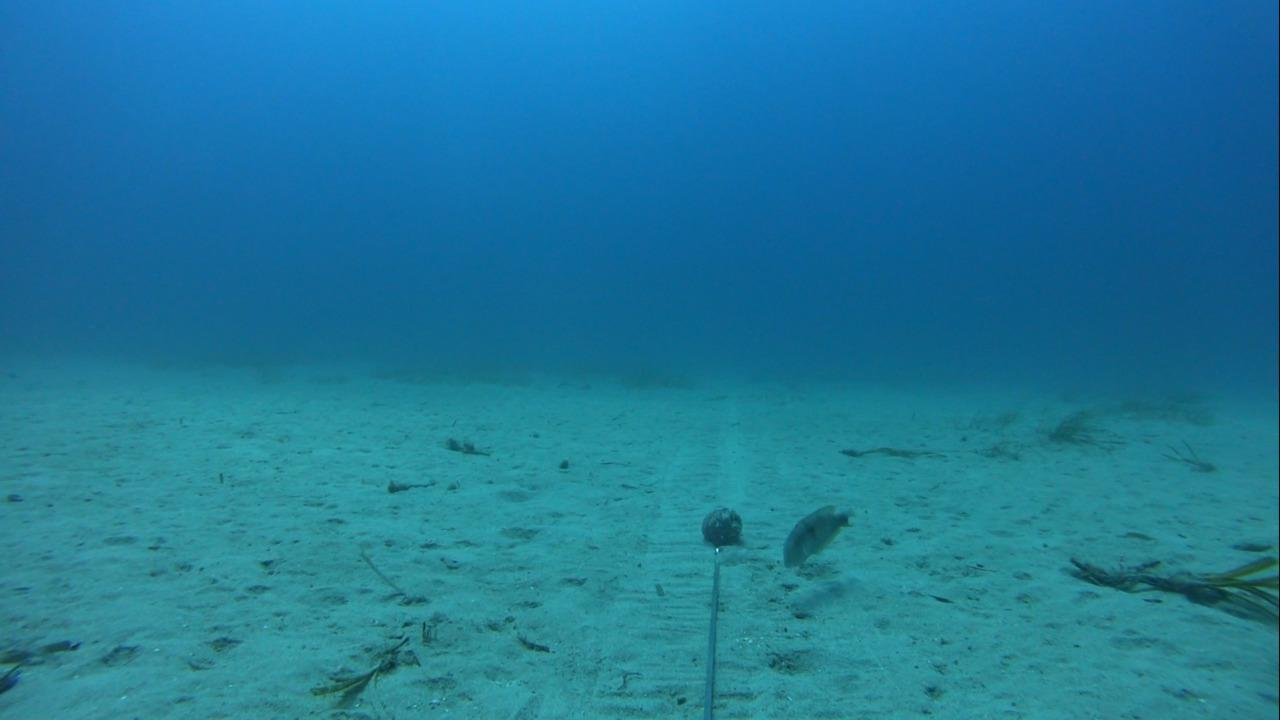raor: (778, 502, 862, 569)
